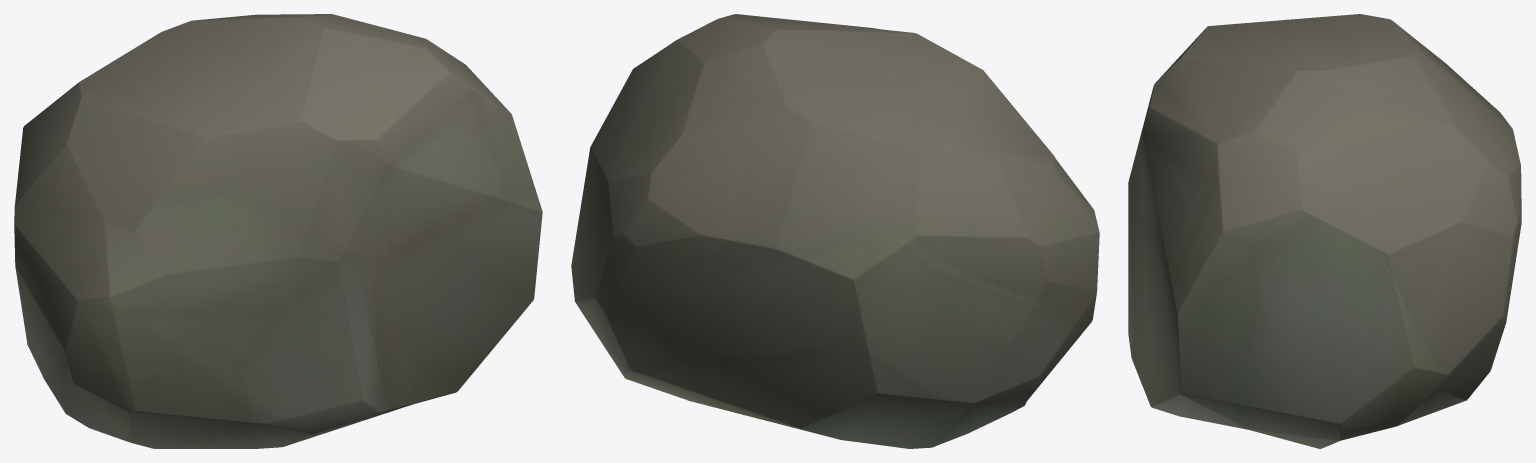
Rendered from Rock3.fbx.
3 views of the same model, side by side, from view 1: azimuth 30°, elevation 25°; view 2: azimuth 150°, elevation 25°; view 3: azimuth 270°, elevation 25° (orthographic). The views are drawn at different scales.
Parts seen in each view (by area): view 1: Rock3; view 2: Rock3; view 3: Rock3.
Boxes of the visible parts, box(x1,y1,x2,y2) form: Rock3: box(14, 14, 542, 448); Rock3: box(571, 14, 1099, 448); Rock3: box(1128, 14, 1521, 448).
Bounding box in the file's own units: 2.67 × 2.07 × 2.1.
